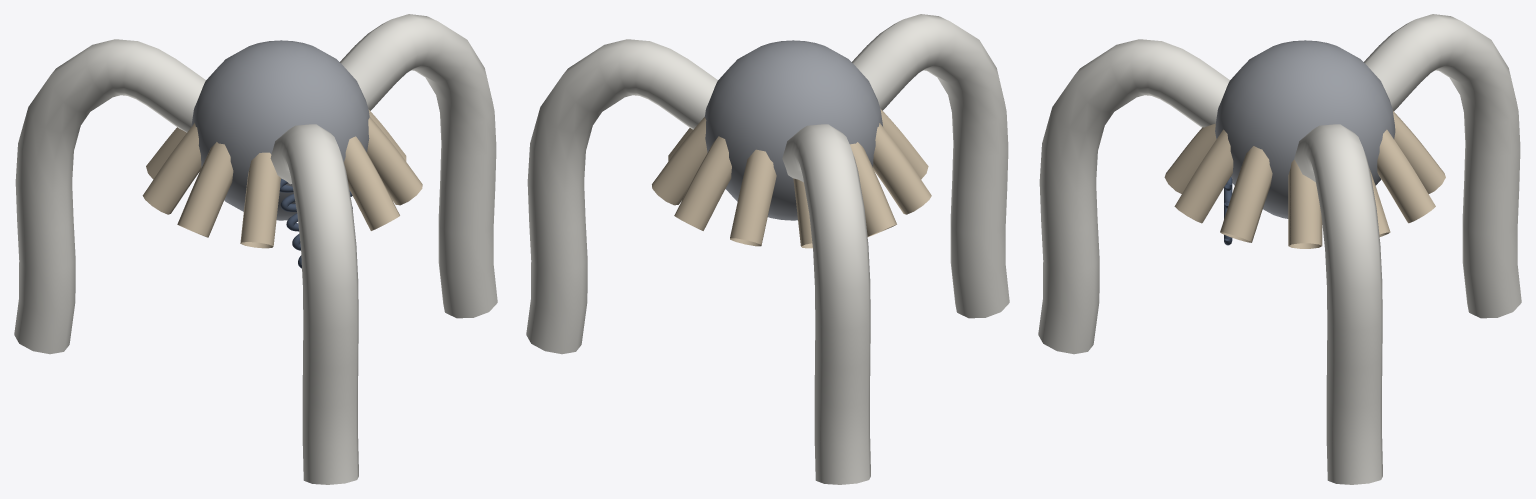
Rendered from bio_tripod_bell_06_near.glb.
The picture shows the model from 3 angles, left to right: view 1: azimuth 30°, elevation 25°; view 2: azimuth 150°, elevation 25°; view 3: azimuth 270°, elevation 25°; orthographic projection.
Parts seen in each view (by area): view 1: Arched tripod.001, Arched tripod, Arched tripod.002, Hanging bell core, Flared rib.007, Flared rib.006, Flared rib.009, Flared rib.005, Flared rib.010, Flared rib.004, Underside pressure folds; view 2: Arched tripod, Arched tripod.002, Arched tripod.001, Hanging bell core, Flared rib.003, Flared rib.002, Flared rib.006, Flared rib.001, Flared rib.005, Flared rib.007, Flared rib.004; view 3: Arched tripod.002, Arched tripod.001, Arched tripod, Hanging bell core, Flared rib.010, Flared rib.009, Flared rib.002, Flared rib, Flared rib.003, Flared rib.008.
Part boxes in pixels (bbox=[...]): Arched tripod.001: bbox=[14, 39, 205, 354]; Arched tripod: bbox=[340, 14, 497, 318]; Arched tripod.002: bbox=[270, 124, 358, 484]; Hanging bell core: bbox=[191, 40, 369, 220]; Flared rib.007: bbox=[240, 152, 281, 248]; Flared rib.006: bbox=[177, 142, 233, 237]; Flared rib.009: bbox=[344, 136, 399, 230]; Flared rib.005: bbox=[142, 123, 201, 214]; Flared rib.010: bbox=[367, 117, 422, 205]; Flared rib.004: bbox=[146, 127, 186, 179]; Underside pressure folds: bbox=[279, 178, 352, 268]; Arched tripod: bbox=[526, 39, 717, 354]; Arched tripod.002: bbox=[852, 14, 1009, 318]; Arched tripod.001: bbox=[782, 124, 870, 484]; Hanging bell core: bbox=[705, 40, 882, 220]; Flared rib.003: bbox=[730, 149, 776, 246]; Flared rib.002: bbox=[674, 136, 731, 230]; Flared rib.006: bbox=[873, 123, 931, 214]; Flared rib.001: bbox=[652, 117, 707, 205]; Flared rib.005: bbox=[850, 142, 896, 236]; Flared rib.007: bbox=[880, 108, 928, 179]; Flared rib.004: bbox=[793, 178, 812, 248]; Arched tripod.002: bbox=[1038, 39, 1229, 354]; Arched tripod.001: bbox=[1364, 14, 1521, 318]; Arched tripod: bbox=[1294, 124, 1382, 484]; Hanging bell core: bbox=[1215, 40, 1395, 218]; Flared rib.010: bbox=[1220, 146, 1272, 242]; Flared rib.009: bbox=[1174, 129, 1233, 223]; Flared rib.002: bbox=[1377, 129, 1435, 223]; Flared rib: bbox=[1288, 159, 1322, 248]; Flared rib.003: bbox=[1393, 111, 1445, 193]; Flared rib.008: bbox=[1164, 123, 1216, 193].
Size of the model in its own units: 2.49 by 1.93 by 2.57.
